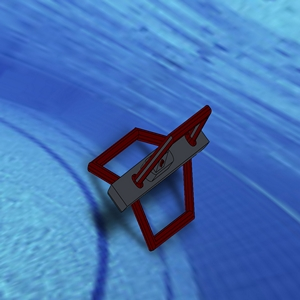submarine: (65, 64, 237, 278)
